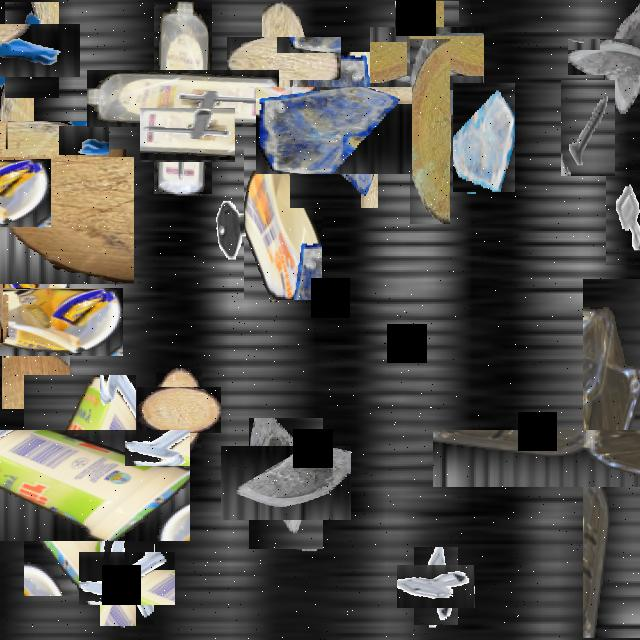glass: (273, 69, 395, 191), (235, 432, 337, 535), (382, 14, 472, 103), (453, 84, 515, 194), (585, 20, 640, 93)
metal: (90, 540, 164, 616), (150, 98, 224, 172), (561, 80, 615, 176), (0, 12, 69, 87), (406, 556, 466, 617), (606, 172, 640, 265), (214, 190, 256, 265)
plastic: (507, 354, 640, 562), (0, 402, 163, 568), (120, 36, 246, 160), (244, 148, 322, 300), (0, 261, 96, 382)
wood: (0, 153, 130, 287), (0, 83, 71, 193), (410, 39, 450, 224), (244, 19, 324, 98), (146, 378, 212, 443), (0, 258, 3, 343)
